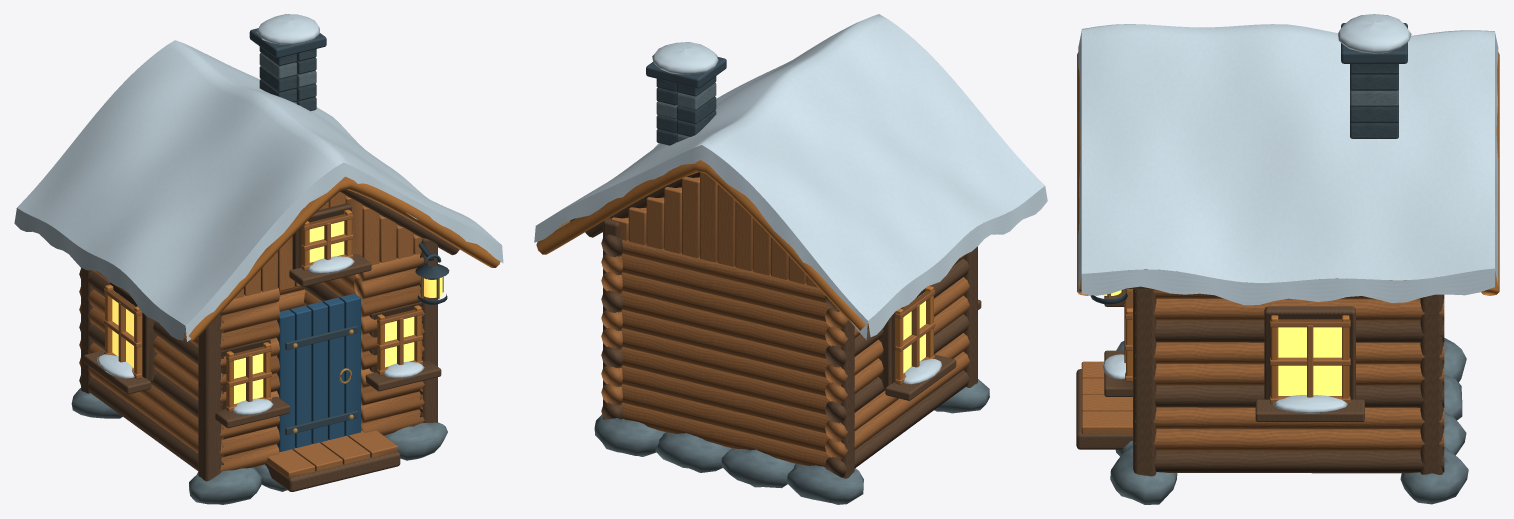
File: shelter.glb
The picture shows the model from 3 angles, left to right: view 1: azimuth 30°, elevation 25°; view 2: azimuth 150°, elevation 25°; view 3: azimuth 270°, elevation 25°; orthographic projection. The views are drawn at different scales.
Visible parts, largest first — view 1: shelter; view 2: shelter; view 3: shelter.
Boxes of the visible parts, x1,y1,x2,y2 form: shelter: [14, 14, 503, 504]; shelter: [534, 14, 1047, 504]; shelter: [1076, 14, 1499, 504].
Bounding box in the file's own units: 3.32 × 3.7 × 3.09.
Materials: 10 (10 with a texture image).
